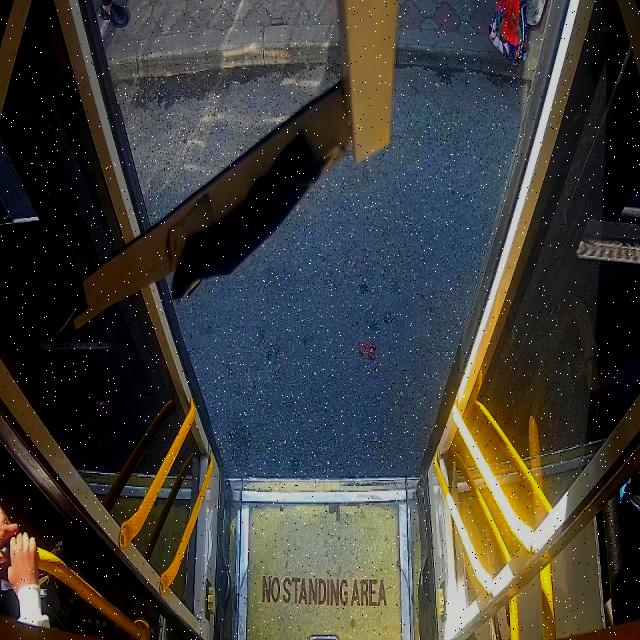open: (74, 2, 576, 488)
